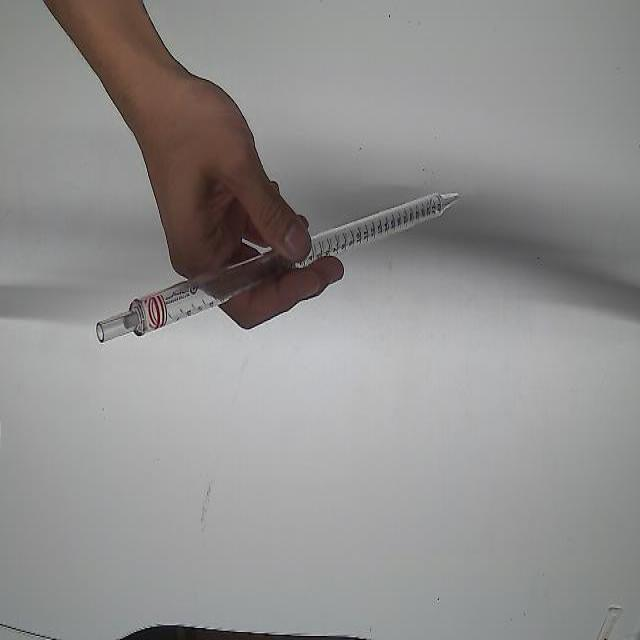Serelogical Pipet 25 mL: (95, 188, 464, 348)
